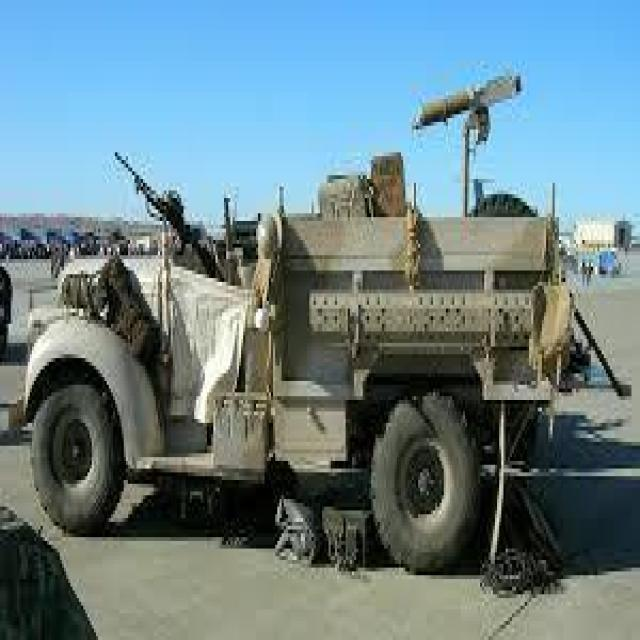Tanks: (23, 112, 594, 554)
